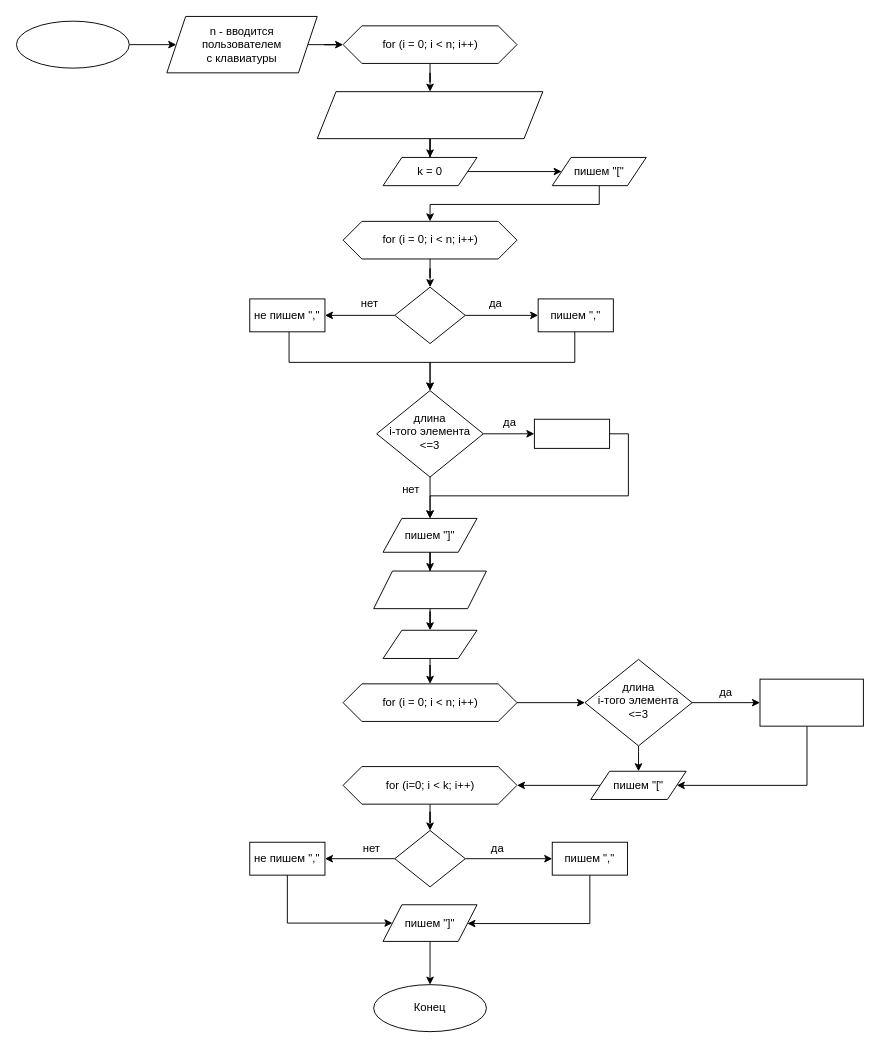
Some shapes in this 880 by 1048 pixel diagram are drawn without their labels. Each missing label, with the box of its shape:
f = 0: (382, 629, 477, 658)
i < k-1: (394, 830, 465, 887)
i < n-1: (394, 286, 465, 344)
k++: (533, 418, 610, 448)
Вводятся строки с клавиатуры, записываются в первый массив: (316, 91, 543, 139)
Записываем элемент в новый массив: (759, 678, 863, 726)
Начало: (16, 20, 129, 68)
новый массив длиной k: (373, 570, 486, 609)
